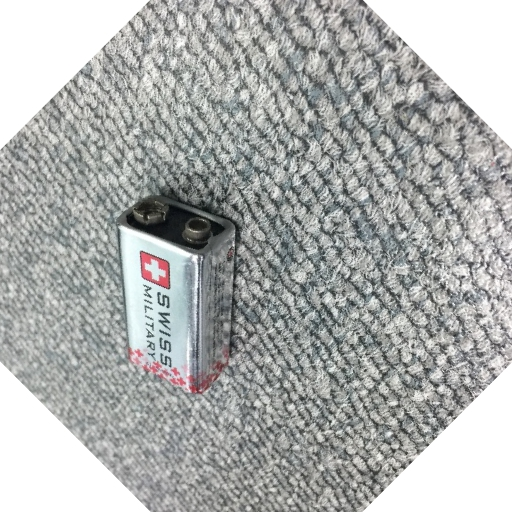Battery_3: (107, 180, 255, 410)
